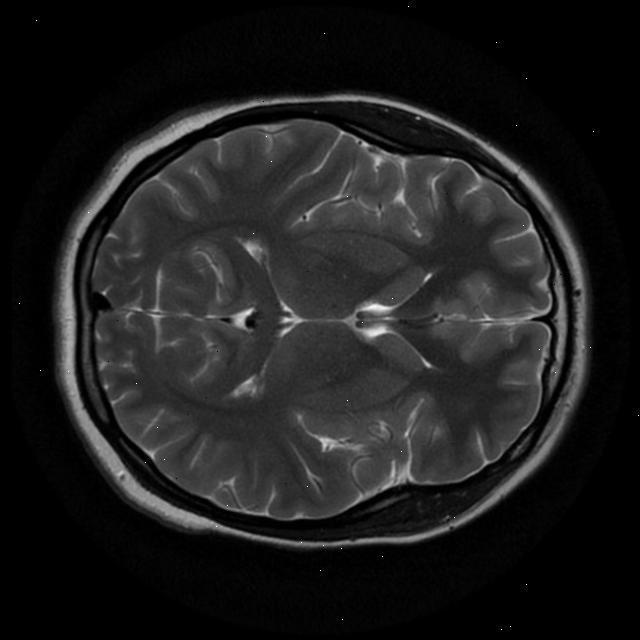No_Tumor: (55, 93, 590, 548)
